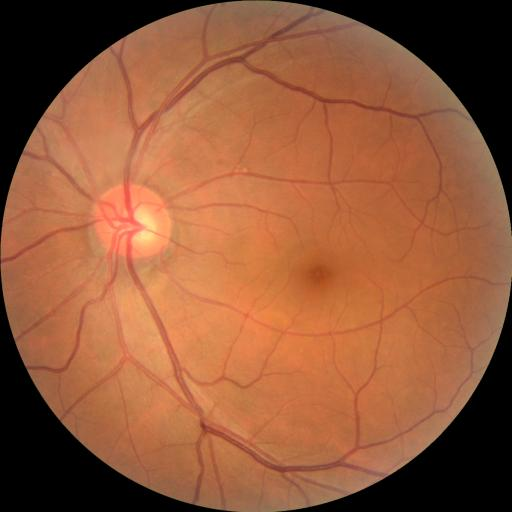Optic Cup: (125, 206, 157, 245)
Optic Disc: (94, 184, 171, 258)
